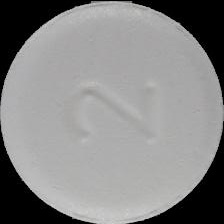0555-0098: (0, 0, 224, 224)
